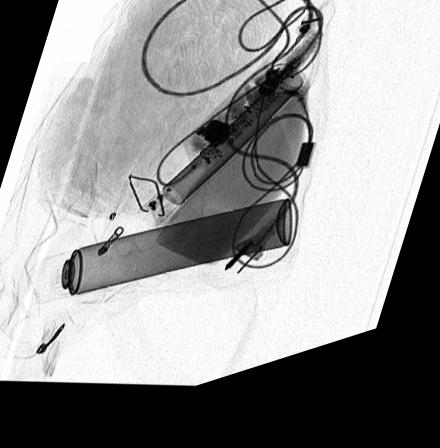Sprayer: (32, 217, 290, 306)
